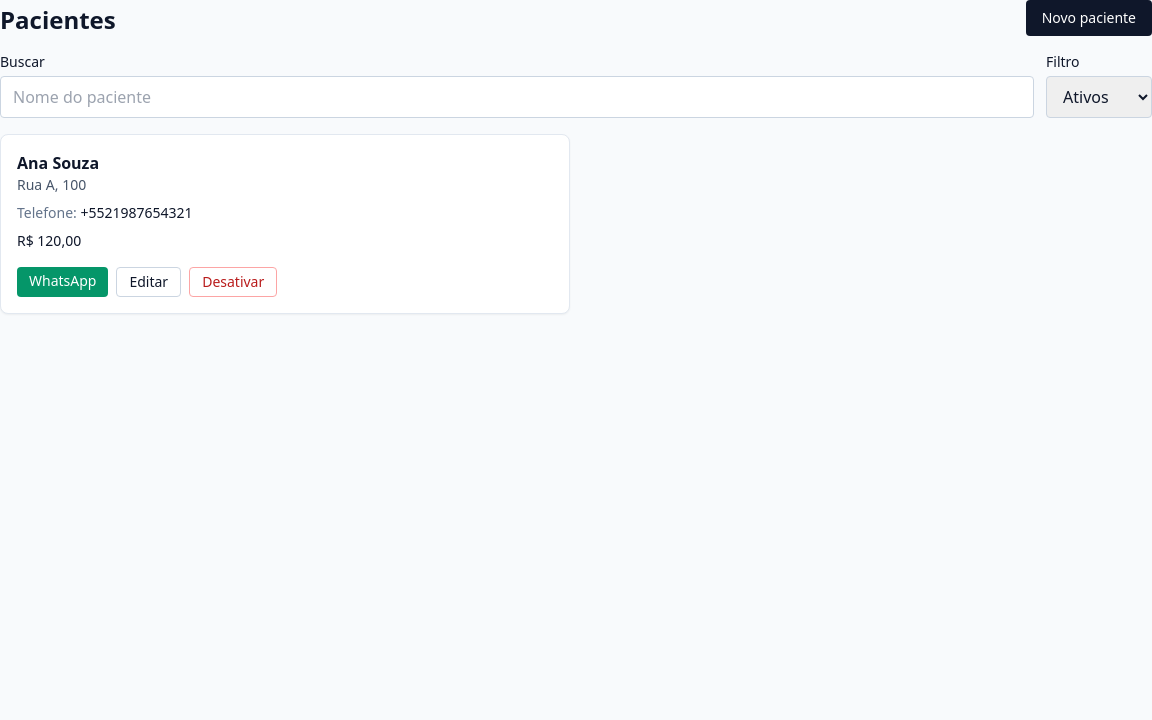
Test case: Patients page › edits a patient via the modal form
The image size is (1152, 720).
Click the button "Editar": (149, 282) [116,267,181,297]
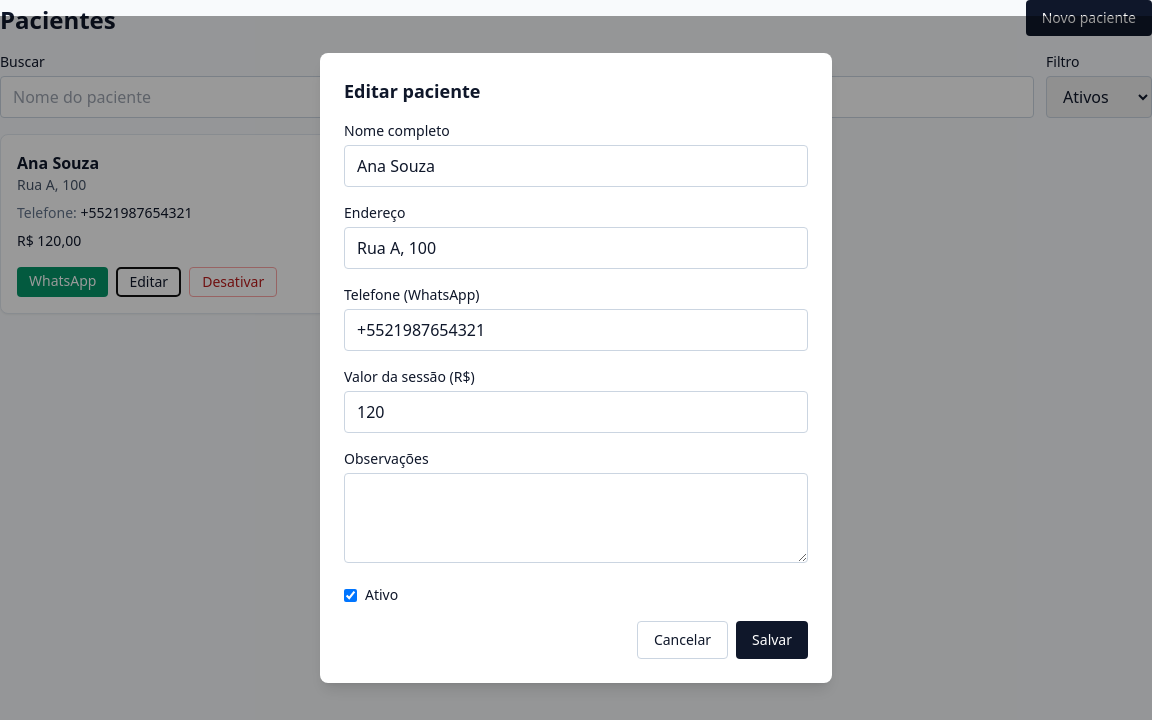
Replace the text in the field labelled "Nome completo" with "Ana Maria": (576, 166) [344,145,808,187]
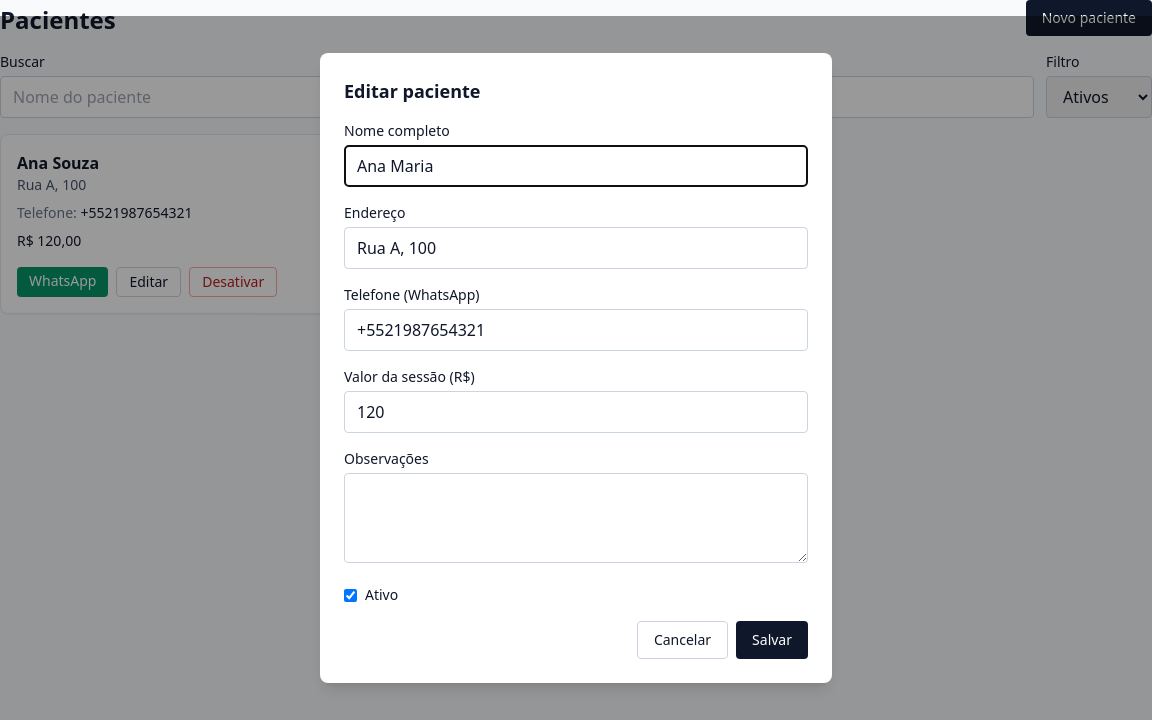
Click the button "Salvar": (772, 640) [736,621,808,659]
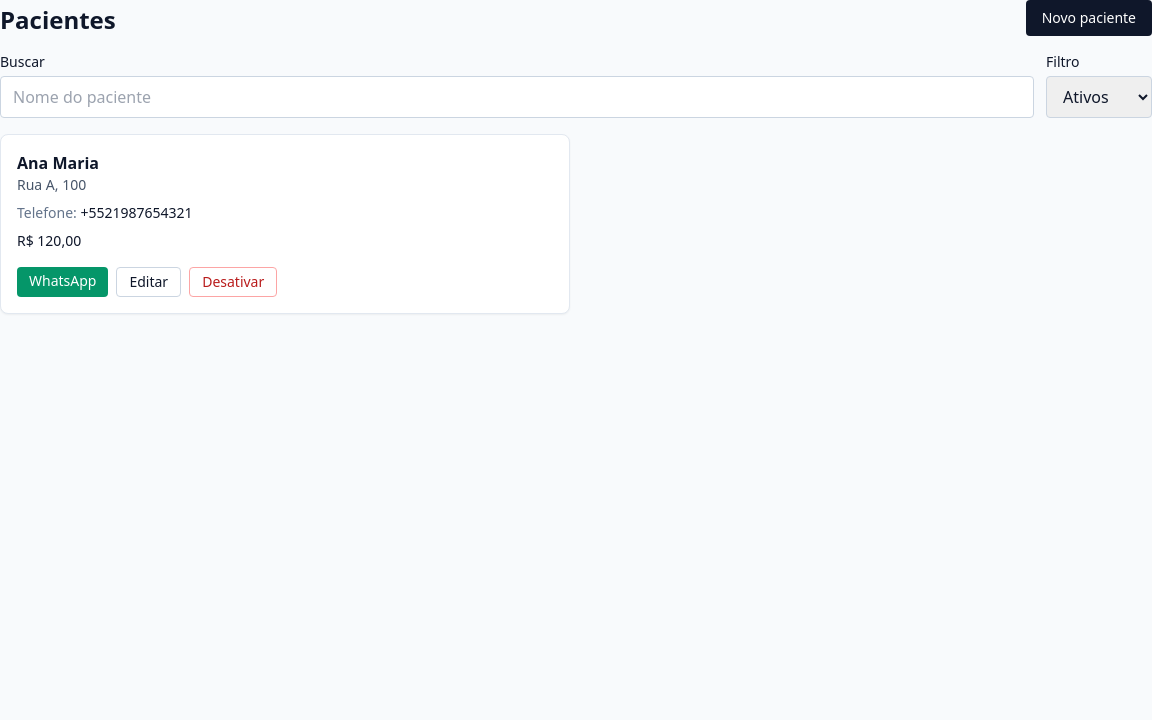
Now the link "Ana Maria" is shown, box [17,152,99,174]
